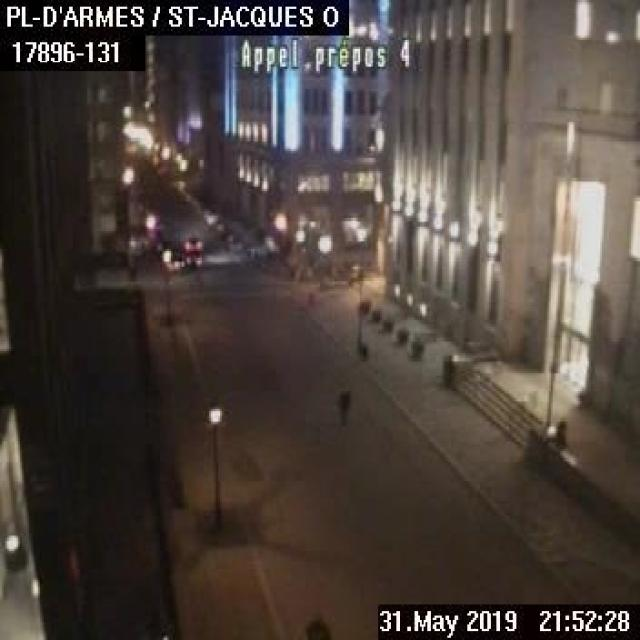pedestrian: (302, 609, 331, 638), (333, 384, 351, 426)
vehicle: (184, 235, 202, 252), (185, 250, 200, 267)
